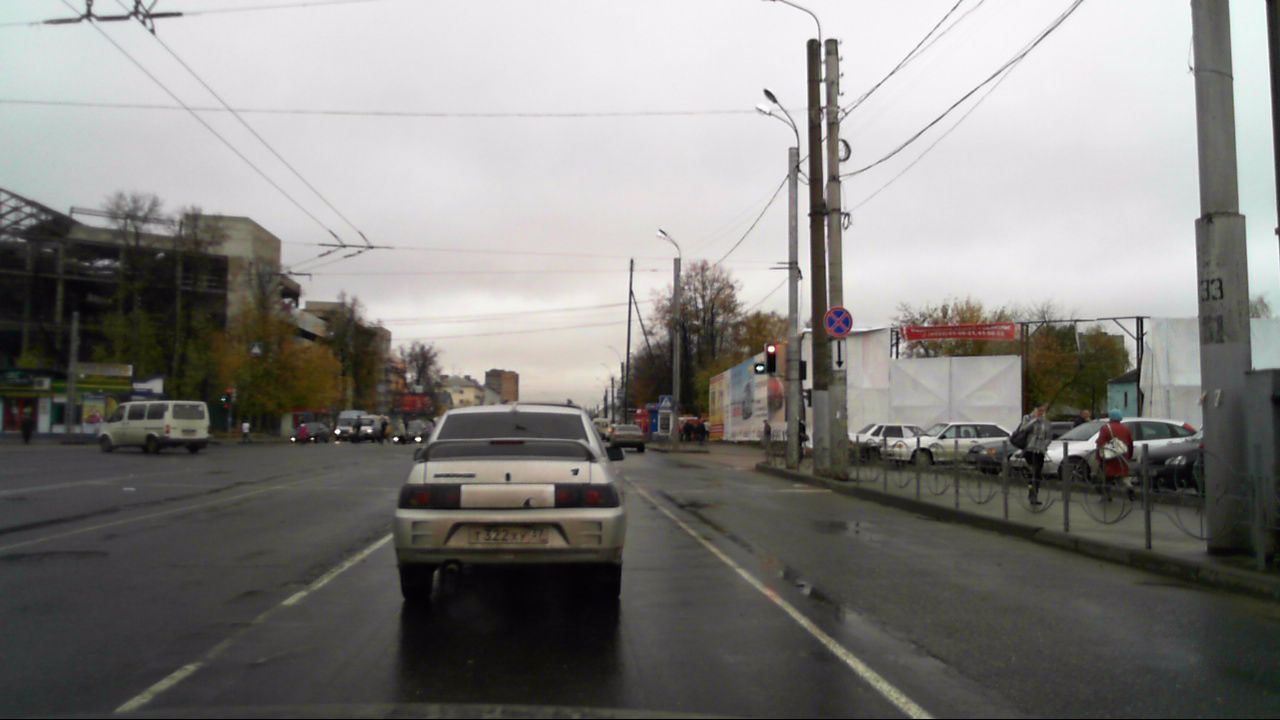No Parking: (822, 305, 853, 338)
